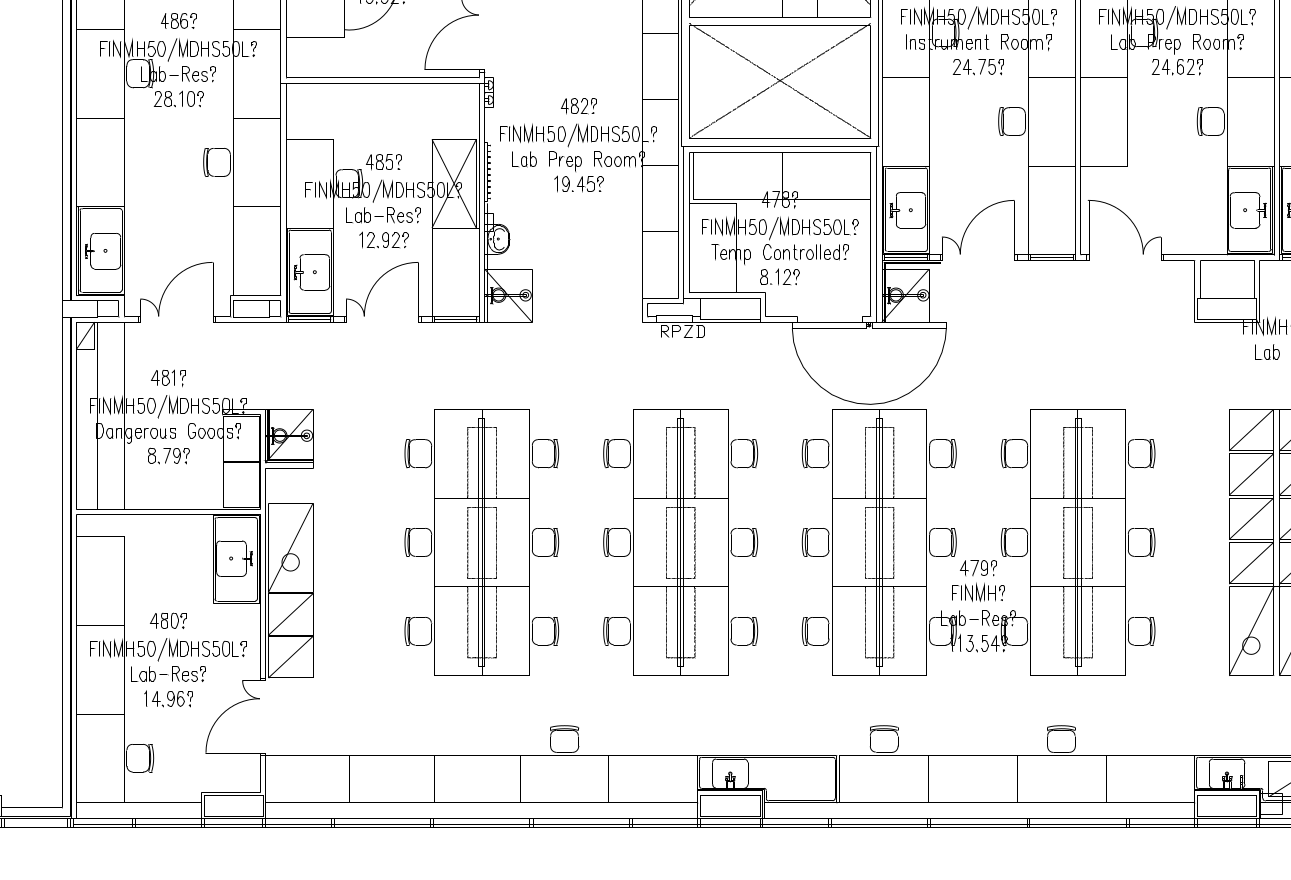door: (1083, 194, 1143, 265), (197, 697, 259, 759), (416, 14, 479, 75), (157, 259, 218, 322), (362, 259, 423, 322), (959, 195, 1020, 258), (134, 292, 162, 326), (340, 289, 366, 324), (226, 676, 259, 701), (1143, 227, 1164, 263), (937, 221, 958, 257)
